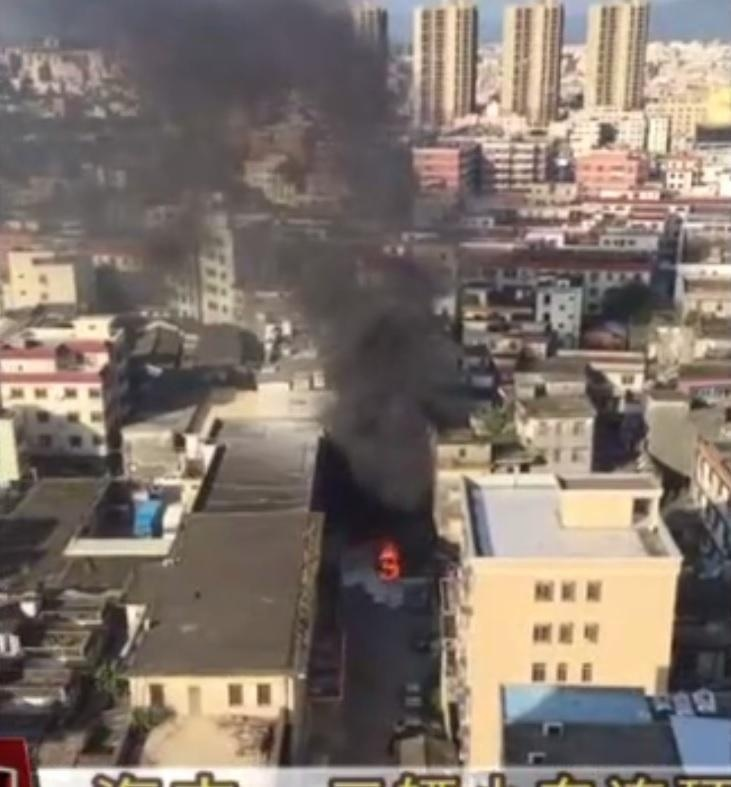fire: (375, 540, 404, 580)
